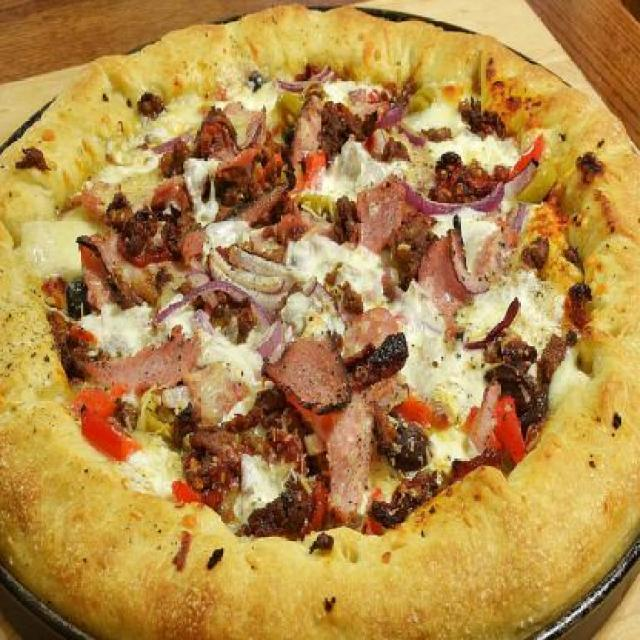Pizza: (0, 18, 638, 627)
